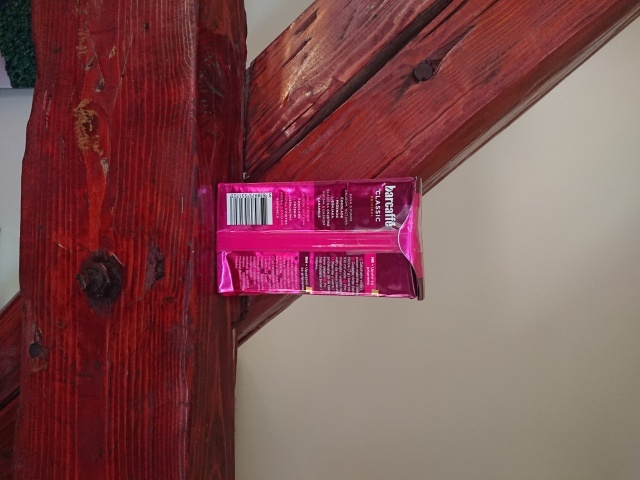Barcaffe Classic Original 225g: (212, 172, 428, 303)
